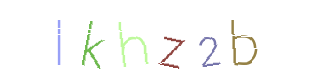2: (168, 0, 248, 80)
B: (172, 0, 252, 80)
H: (112, 0, 192, 80)
K: (53, 0, 133, 80)
L: (50, 0, 130, 80)
Z: (119, 0, 199, 80)
